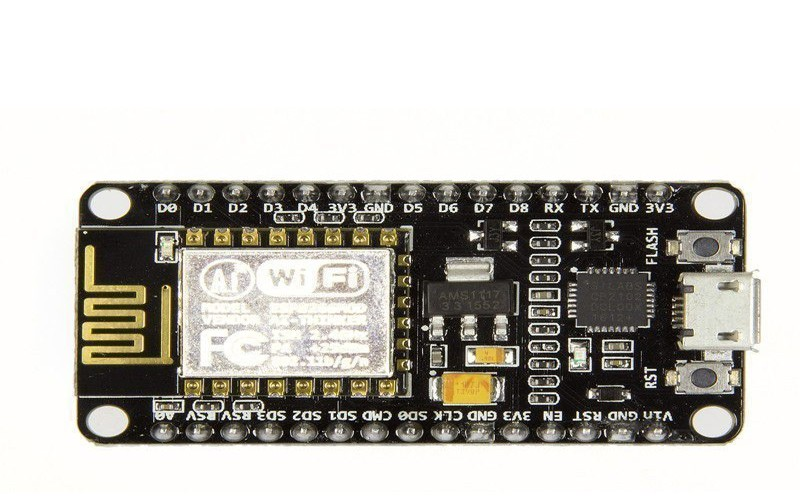IoT Sensor: (50, 155, 769, 470)
